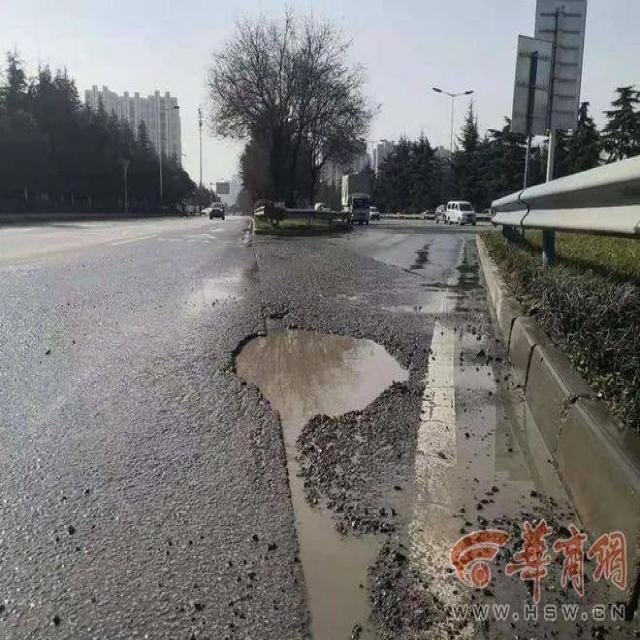Pothole: (230, 319, 410, 631)
